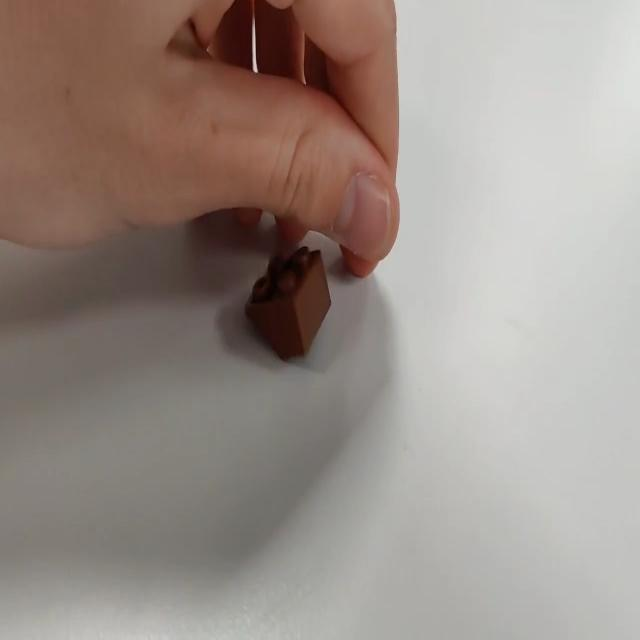X2x2x1: (244, 242, 332, 362)
